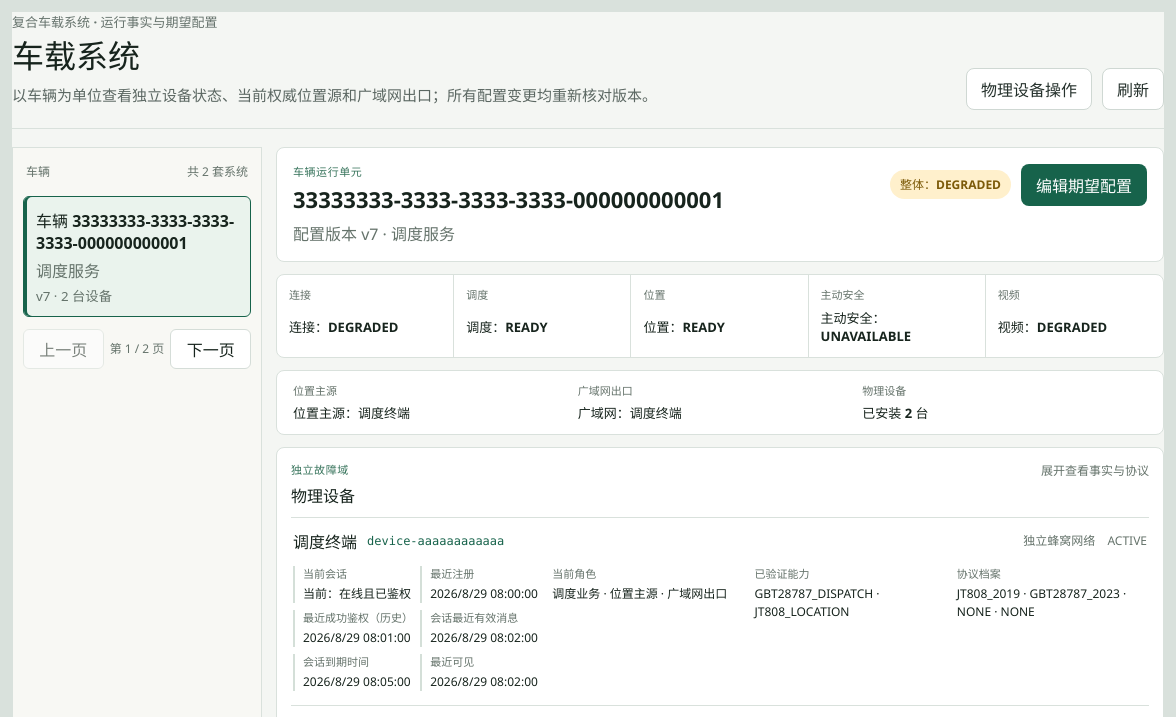
Test: OnboardSystemManagementPage › invalidates a configuration draft when changing pages
The image size is (1176, 717).
Expected: the text "整体：DEGRADED" is shown, [890, 170, 1011, 199]
Click the button "编辑期望配置" at (1084, 185), box [1021, 164, 1147, 206]
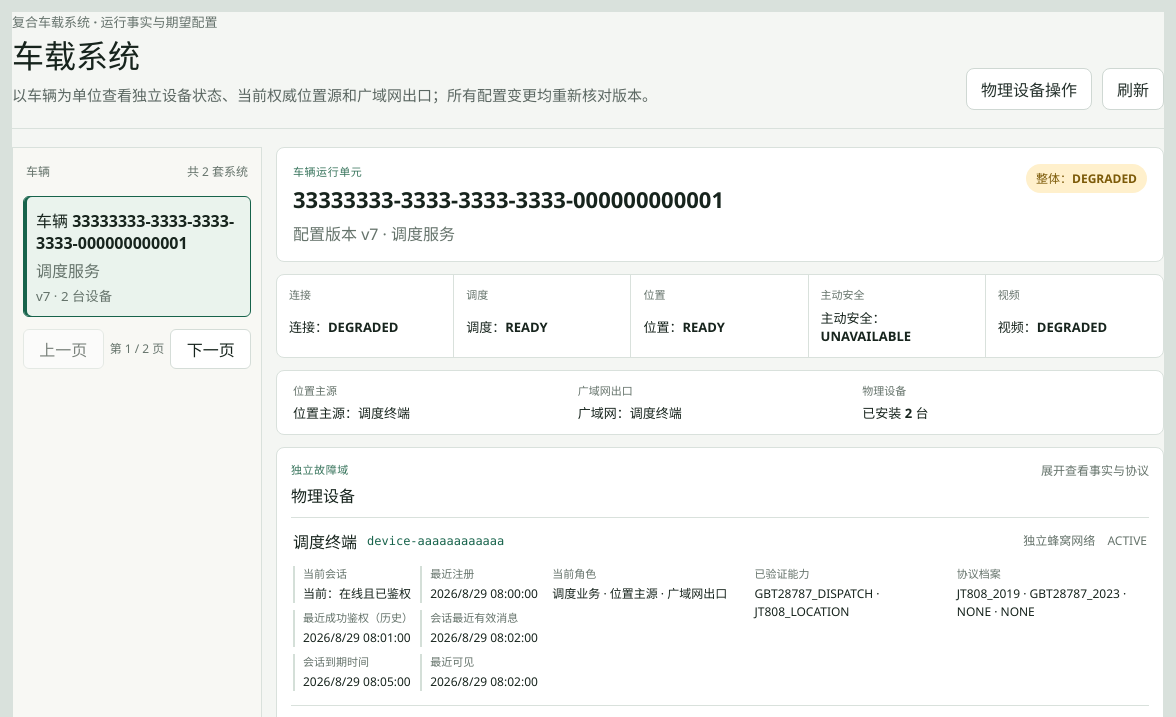
Click the button "下一页" at (211, 349), box [170, 329, 251, 369]
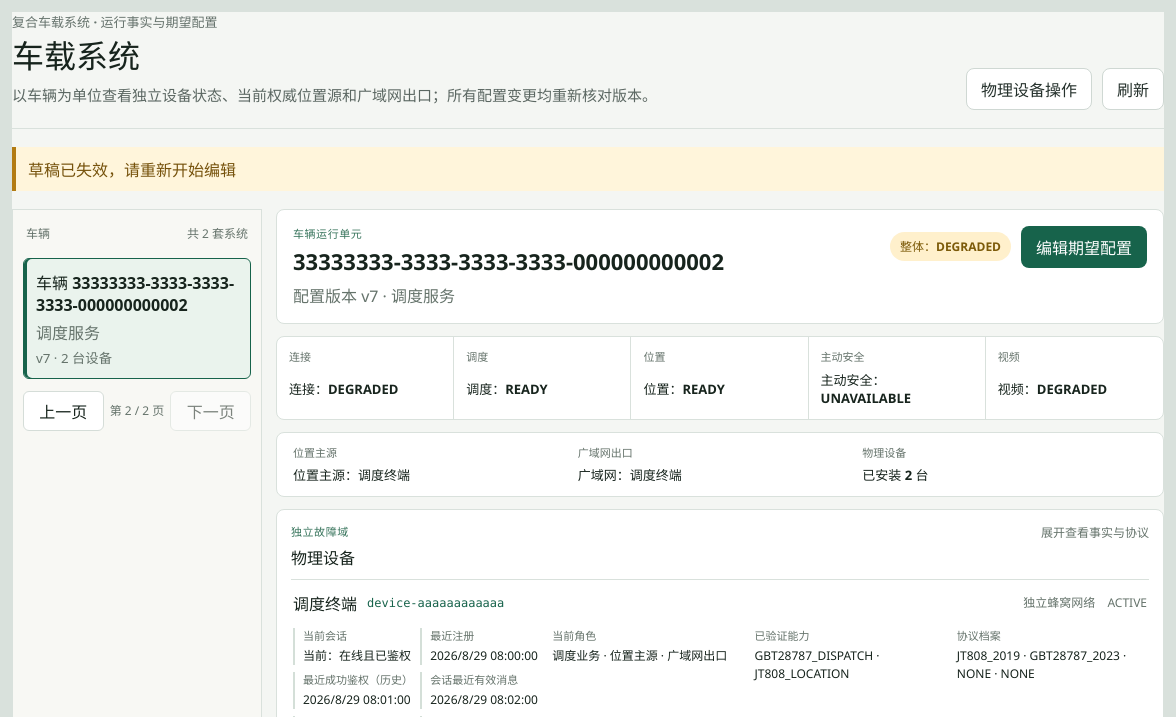
Expected: the message reads "草稿已失效，请重新开始编辑", [28, 159, 236, 181]
